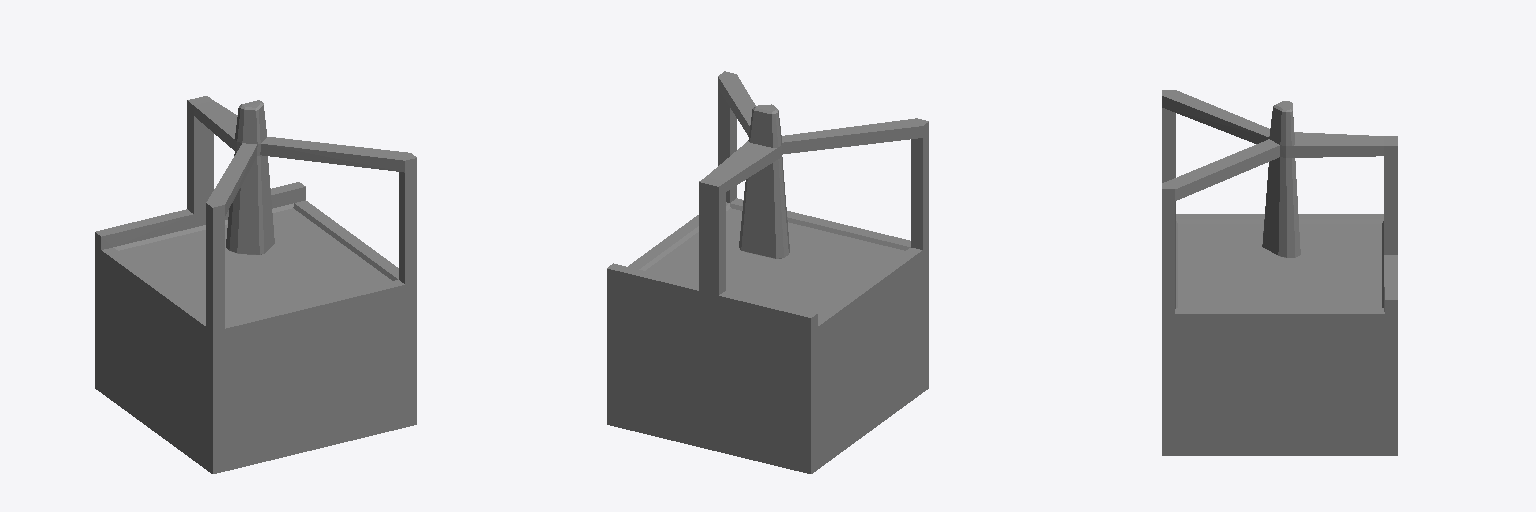
File: grinder_v2_textured.obj
The picture shows the model from 3 angles: view 1: azimuth 30°, elevation 25°; view 2: azimuth 150°, elevation 25°; view 3: azimuth 270°, elevation 25°; orthographic projection.
Visible parts, largest first — view 1: Grinder; view 2: Grinder; view 3: Grinder.
Part boxes in pixels (bbox=[...]): Grinder: bbox=[95, 96, 416, 473]; Grinder: bbox=[607, 71, 928, 473]; Grinder: bbox=[1162, 90, 1397, 455].
Bounding box in the file's own units: 30 × 42.12 × 30.